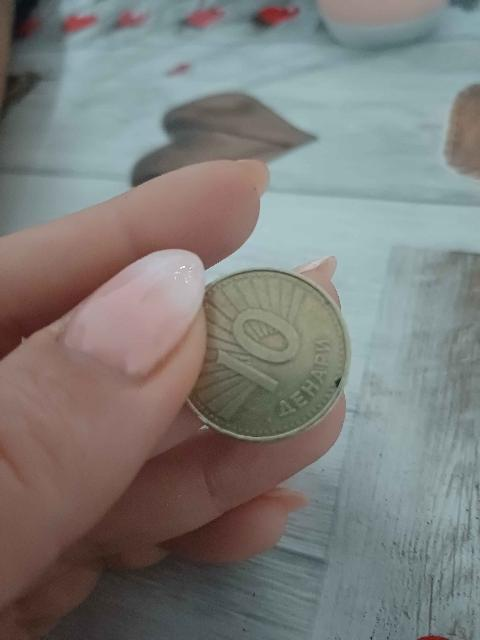coin: (189, 269, 350, 441)
